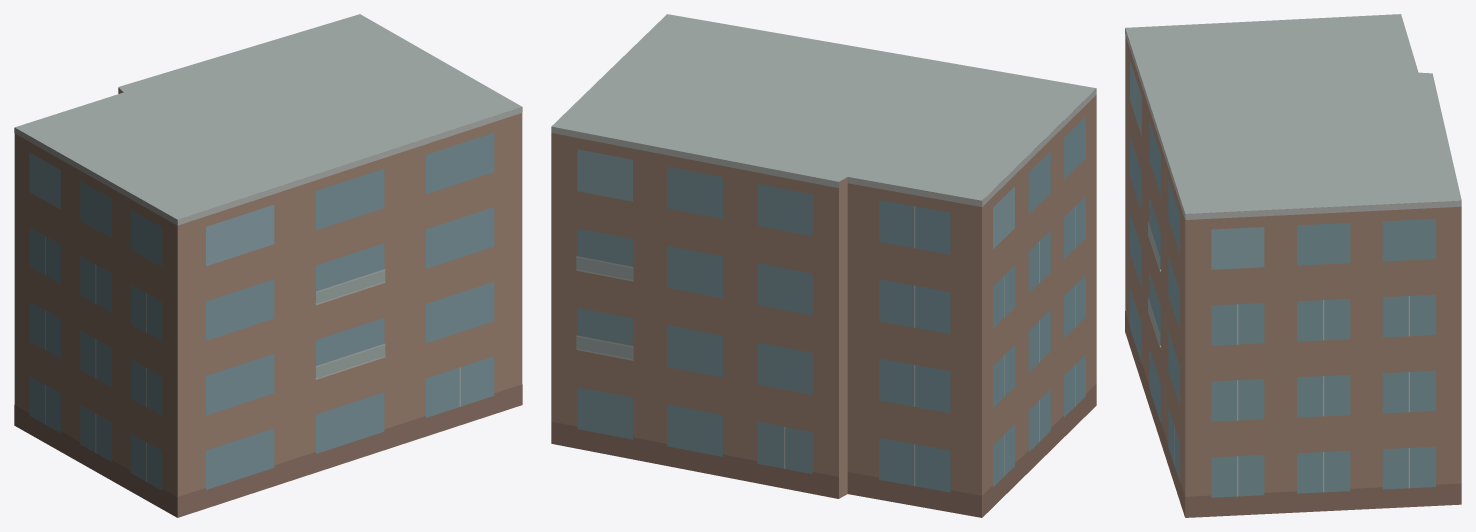
Rendered from survey-upis-32676063.glb.
3 renders of one model, left to right at view 1: azimuth 30°, elevation 25°; view 2: azimuth 150°, elevation 25°; view 3: azimuth 270°, elevation 25°, orthographic. The views are drawn at different scales.
Parts seen in each view (by area): view 1: survey-upis-32676063.tmp; view 2: survey-upis-32676063.tmp; view 3: survey-upis-32676063.tmp.
Part boxes in pixels (box(x1,y1,x2,y2)): survey-upis-32676063.tmp: box(14, 14, 522, 517); survey-upis-32676063.tmp: box(551, 14, 1096, 517); survey-upis-32676063.tmp: box(1125, 14, 1461, 517).
Size of the model in its own units: 17.23 by 12.2 by 12.26.
